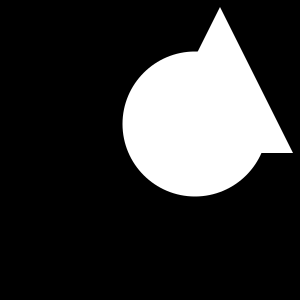rectangle: (122, 52, 268, 196)
triangle: (147, 7, 293, 153)
